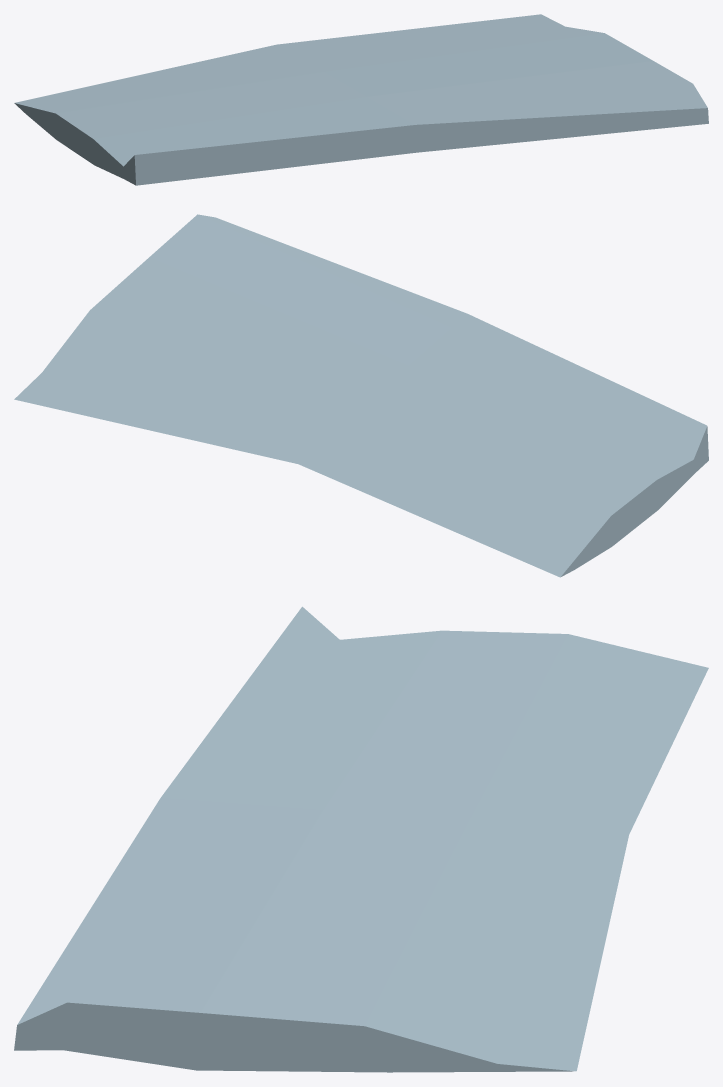
The model's file is su33d_flap_right.glb.
3 renders of one model, top to bottom at view 1: azimuth 30°, elevation 25°; view 2: azimuth 150°, elevation 25°; view 3: azimuth 270°, elevation 25°, orthographic. The views are drawn at different scales.
Visible parts, largest first — view 1: 0_FlapRight; view 2: 0_FlapRight; view 3: 0_FlapRight.
Boxes of the visible parts, left/top/right/bottom form: 0_FlapRight: left=14, top=14, right=708, bottom=185; 0_FlapRight: left=14, top=214, right=708, bottom=577; 0_FlapRight: left=14, top=606, right=708, bottom=1072.
Bounding box in the file's own units: 1.53 × 0.1357 × 1.12.
